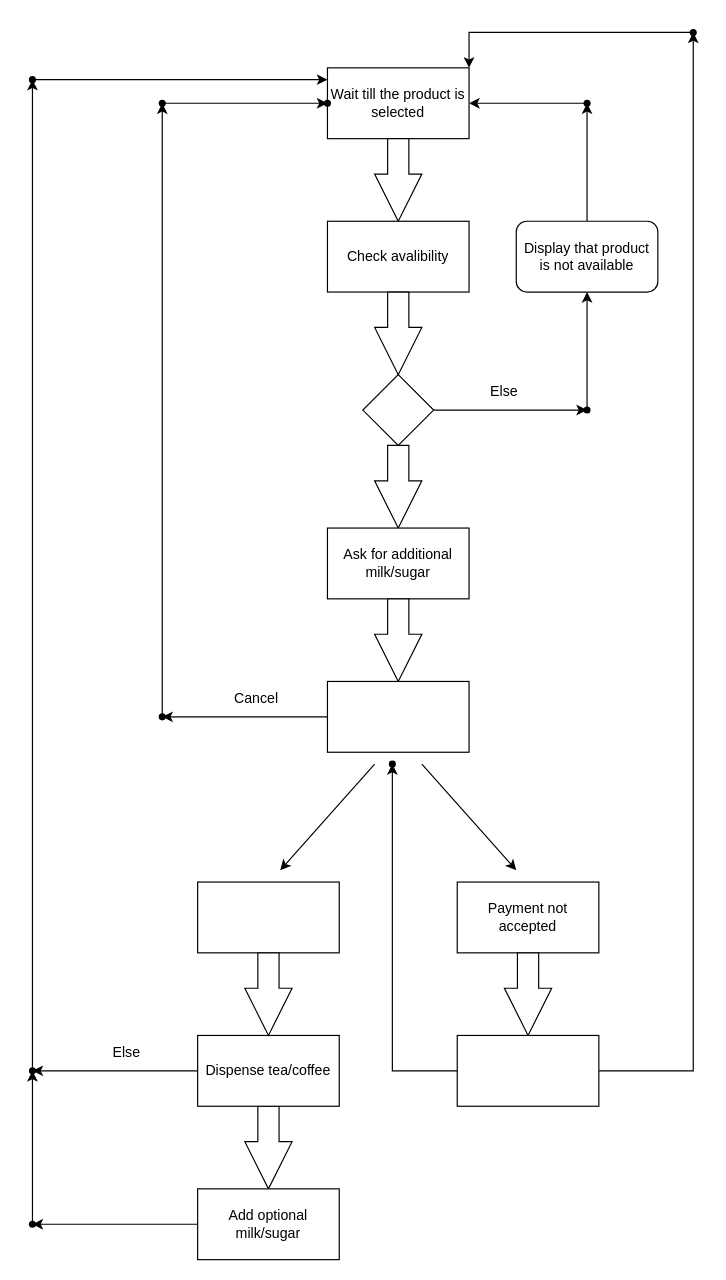
This 726x1280 diagram has some shape labels left out. The shapes that lost their labels are listed below. From the top down, each one's centre as x and y in pixels, then its label:
the point at 397,716: Show a price and wait for entering a prepaid card
the point at 267,917: Payment accepted
the point at 527,1070: Wait for a different card
